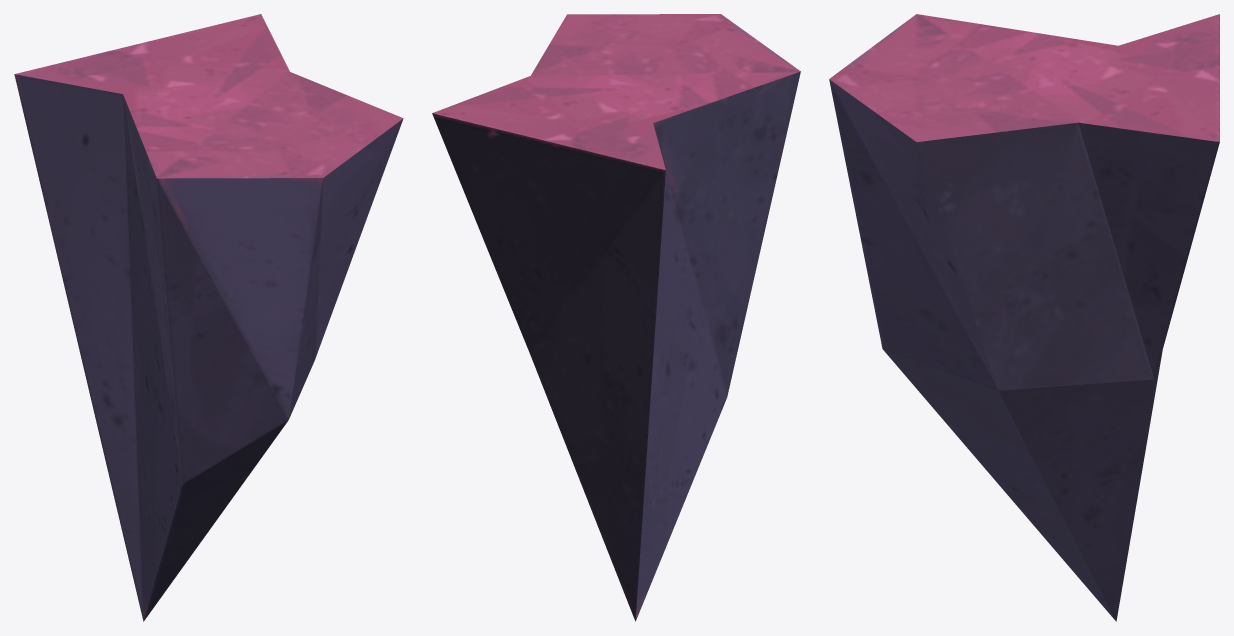
File: floating_rock5.fbx
3 renders of one model, left to right at view 1: azimuth 30°, elevation 25°; view 2: azimuth 150°, elevation 25°; view 3: azimuth 270°, elevation 25°, orthographic. The views are drawn at different scales.
Parts seen in each view (by area): view 1: floating_rock5; view 2: floating_rock5; view 3: floating_rock5.
Boxes of the visible parts, x1,y1,x2,y2 form: floating_rock5: (14,14,403,621); floating_rock5: (432,14,800,621); floating_rock5: (829,14,1219,621).
Size of the model in its own units: 0.0141 by 0.0291 by 0.0182.
